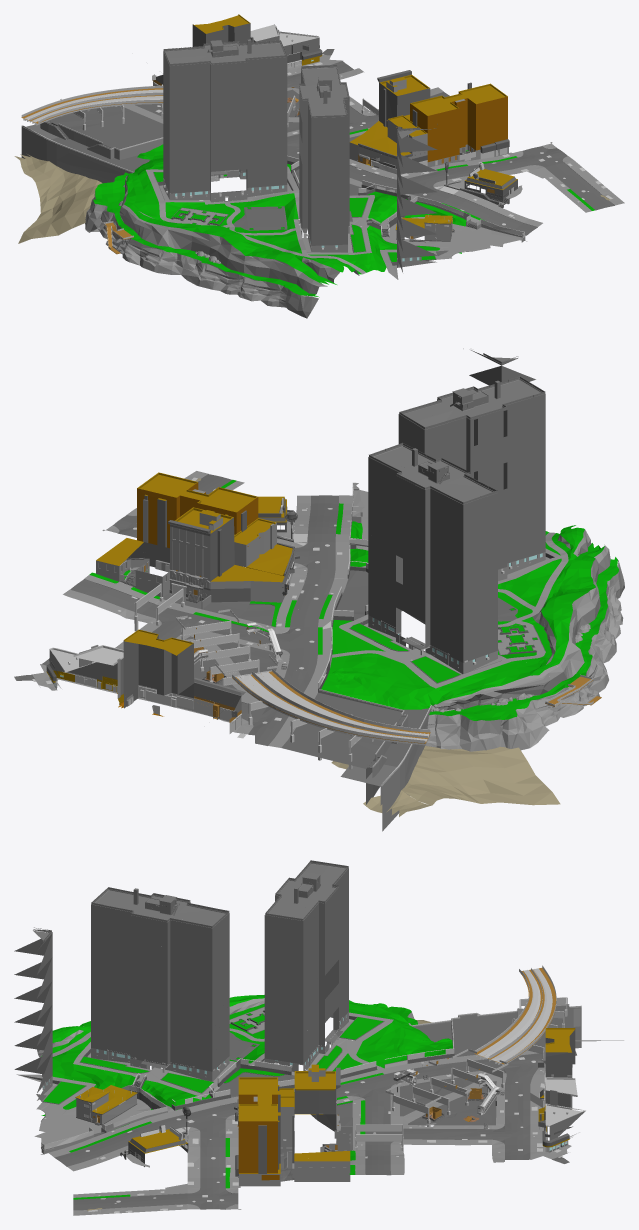
File: bronx_w_4.FBX
3 views of the same model, one above another, from view 1: azimuth 30°, elevation 25°; view 2: azimuth 150°, elevation 25°; view 3: azimuth 270°, elevation 25° (orthographic). The views are drawn at different scales.
Visible parts, largest first — view 1: unnamed, null; view 2: unnamed, null; view 3: unnamed, null.
Boxes of the visible parts, x1,y1,x2,y2 form: unnamed: [14, 31, 624, 318]; null: [192, 14, 356, 117]; unnamed: [14, 348, 624, 831]; null: [50, 628, 291, 721]; unnamed: [14, 860, 623, 1215]; null: [430, 1028, 585, 1148].
Bounding box in the file's own units: 277 × 119 × 289.
